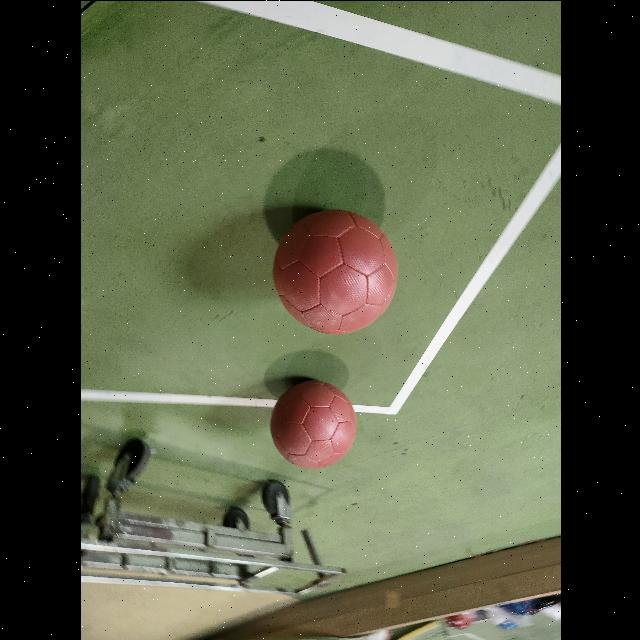R: (272, 209, 396, 333), (269, 379, 355, 468)
